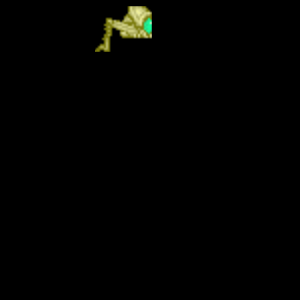Enemy: (95, 6, 152, 52)
